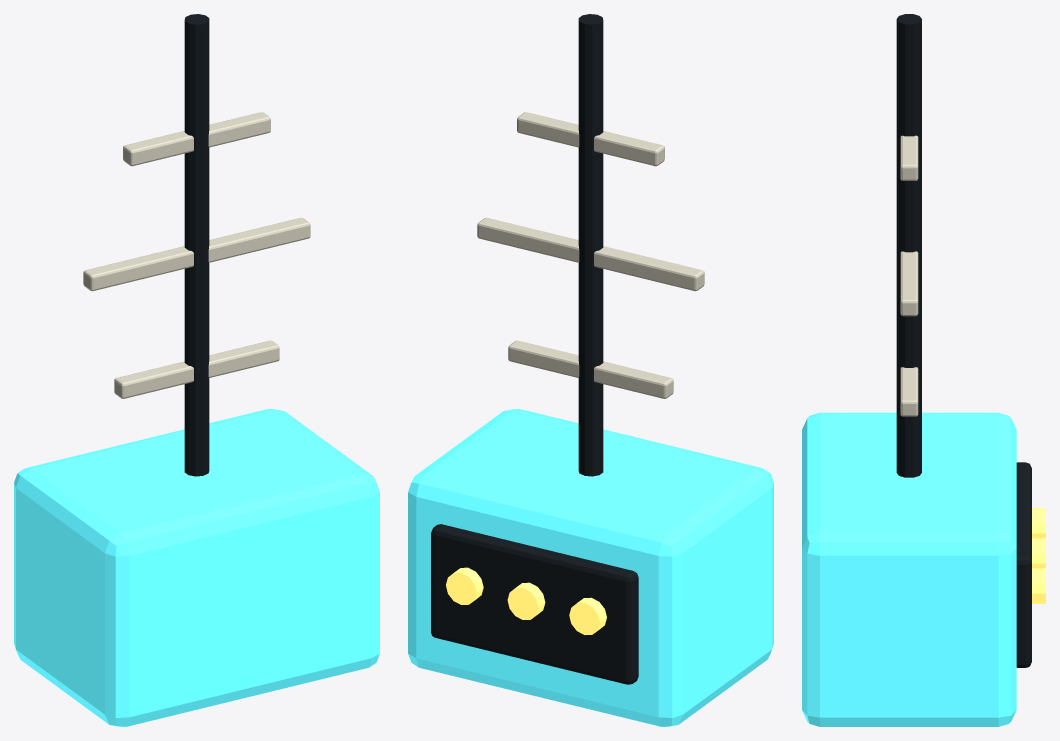
File: antenna_module.glb
The picture shows the model from 3 angles, left to right: view 1: azimuth 30°, elevation 25°; view 2: azimuth 150°, elevation 25°; view 3: azimuth 270°, elevation 25°; orthographic projection.
Visible parts, largest first — view 1: Receiver, Antenna, SignalBar.001, SignalBar, SignalBar.002; view 2: Receiver, ReceiverPanel, Antenna, SignalBar.001, SignalBar, SignalBar.002, StatusLamp.001, StatusLamp.002, StatusLamp; view 3: Receiver, Antenna, ReceiverPanel, SignalBar.001, SignalBar, SignalBar.002, StatusLamp.002, StatusLamp, StatusLamp.001.
Part boxes in pixels (x1,y1,x2,y2): Receiver: (14, 409, 379, 726); Antenna: (184, 14, 209, 476); SignalBar.001: (83, 217, 310, 291); SignalBar: (114, 340, 279, 398); SignalBar.002: (123, 112, 270, 166); Receiver: (408, 409, 773, 726); ReceiverPanel: (431, 524, 638, 684); Antenna: (578, 14, 603, 476); SignalBar.001: (477, 217, 704, 291); SignalBar: (508, 340, 673, 398); SignalBar.002: (517, 112, 664, 166); StatusLamp.001: (507, 582, 545, 619); StatusLamp.002: (446, 567, 483, 604); StatusLamp: (569, 597, 606, 634); Receiver: (802, 412, 1016, 726); Antenna: (896, 14, 921, 477); ReceiverPanel: (1016, 462, 1031, 667); SignalBar.001: (900, 251, 918, 316); SignalBar: (900, 367, 918, 416); SignalBar.002: (900, 135, 918, 180); StatusLamp.002: (1032, 568, 1045, 603); StatusLamp: (1032, 508, 1045, 538); StatusLamp.001: (1032, 538, 1045, 568).
Size of the model in its own units: 0.62 by 1.4 by 0.4775.
